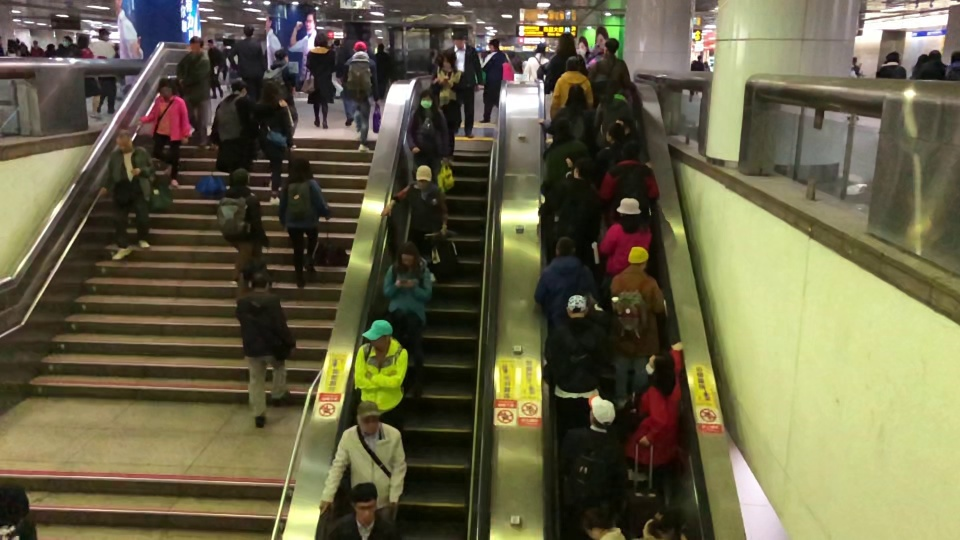person_head: (352, 481, 378, 525), (586, 392, 616, 429), (362, 317, 394, 351), (0, 489, 34, 520), (582, 505, 614, 537), (645, 349, 674, 382), (355, 399, 381, 435), (651, 511, 679, 540), (616, 196, 644, 223), (398, 240, 420, 267), (564, 83, 587, 108), (626, 245, 648, 271), (288, 151, 310, 176), (565, 293, 587, 318), (603, 121, 625, 144), (572, 157, 593, 181), (249, 271, 271, 293), (551, 119, 572, 142), (553, 236, 576, 257), (617, 142, 639, 163), (557, 31, 577, 54), (414, 164, 433, 188), (115, 127, 133, 151), (418, 87, 436, 110), (158, 77, 177, 97), (230, 78, 247, 96), (232, 166, 249, 184), (263, 80, 279, 99), (441, 50, 456, 70), (603, 38, 620, 55), (564, 55, 582, 71), (606, 78, 622, 94), (451, 31, 465, 49), (188, 35, 203, 51), (884, 50, 901, 64), (350, 40, 368, 53), (312, 31, 326, 47), (274, 48, 289, 62), (487, 38, 500, 52), (77, 35, 89, 48), (6, 39, 18, 51), (243, 25, 255, 37), (950, 48, 959, 63), (535, 43, 547, 54), (97, 29, 110, 39), (929, 50, 940, 61), (62, 35, 72, 46), (376, 43, 384, 53), (207, 38, 214, 48), (852, 56, 856, 66), (697, 54, 700, 61), (33, 41, 37, 46)
person_vbox: (318, 399, 407, 521), (234, 270, 297, 429), (609, 245, 666, 413), (623, 341, 685, 485), (543, 294, 607, 433), (379, 164, 449, 284), (382, 239, 433, 403), (561, 393, 631, 508), (97, 128, 155, 261), (215, 166, 270, 302), (278, 151, 331, 290), (137, 76, 192, 188), (353, 318, 409, 427), (533, 236, 598, 327), (594, 195, 653, 287), (598, 140, 661, 225), (405, 88, 456, 183), (256, 80, 294, 207), (209, 78, 258, 175), (429, 49, 466, 166), (553, 156, 600, 247), (175, 35, 212, 148), (447, 31, 483, 141), (327, 481, 392, 540), (595, 122, 653, 188), (262, 47, 299, 149), (538, 83, 596, 147), (345, 41, 376, 153), (541, 118, 589, 184), (305, 30, 336, 130), (548, 55, 594, 120), (226, 24, 266, 95), (479, 38, 511, 124), (544, 31, 587, 94), (593, 77, 631, 146), (88, 28, 118, 115), (1, 490, 50, 540), (76, 35, 103, 122), (590, 38, 633, 85), (207, 40, 225, 98), (522, 42, 548, 82), (876, 49, 908, 80), (374, 44, 392, 99), (847, 56, 861, 120), (919, 50, 945, 79), (945, 47, 960, 80), (694, 55, 705, 97), (58, 36, 77, 59), (5, 40, 23, 57), (29, 39, 43, 58)
